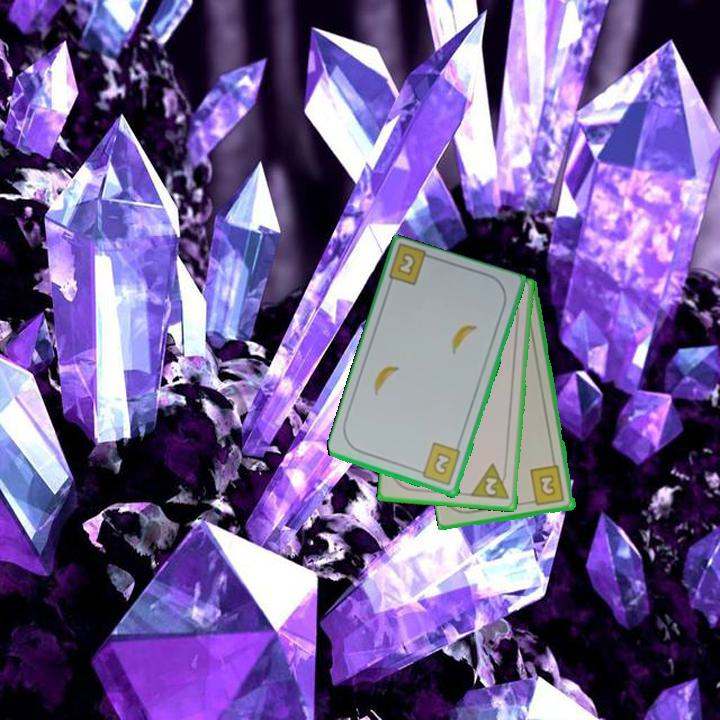2b: (414, 440, 464, 489), (526, 462, 568, 509), (394, 250, 419, 279)
2p: (468, 460, 513, 503)
